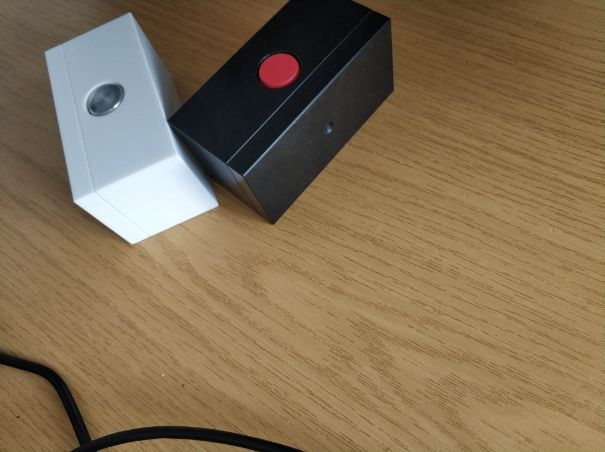black+black+red: (160, 1, 400, 228)
white+white+silver: (40, 11, 223, 250)
